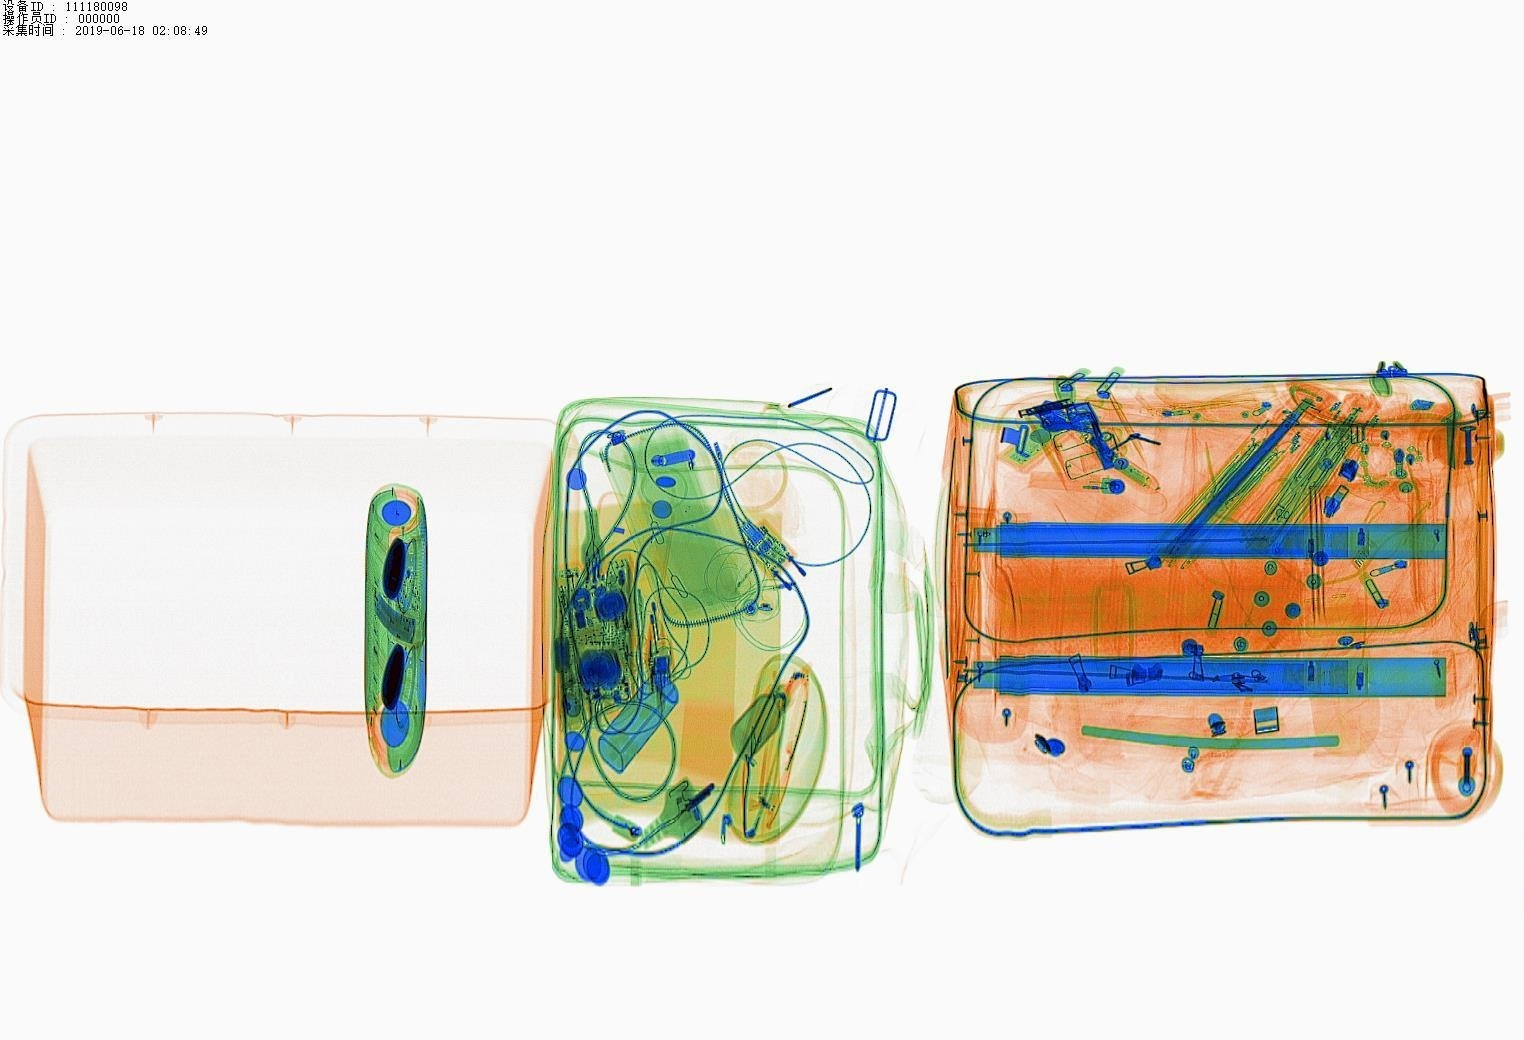NonmetallicFire: (1031, 460, 1142, 506)
